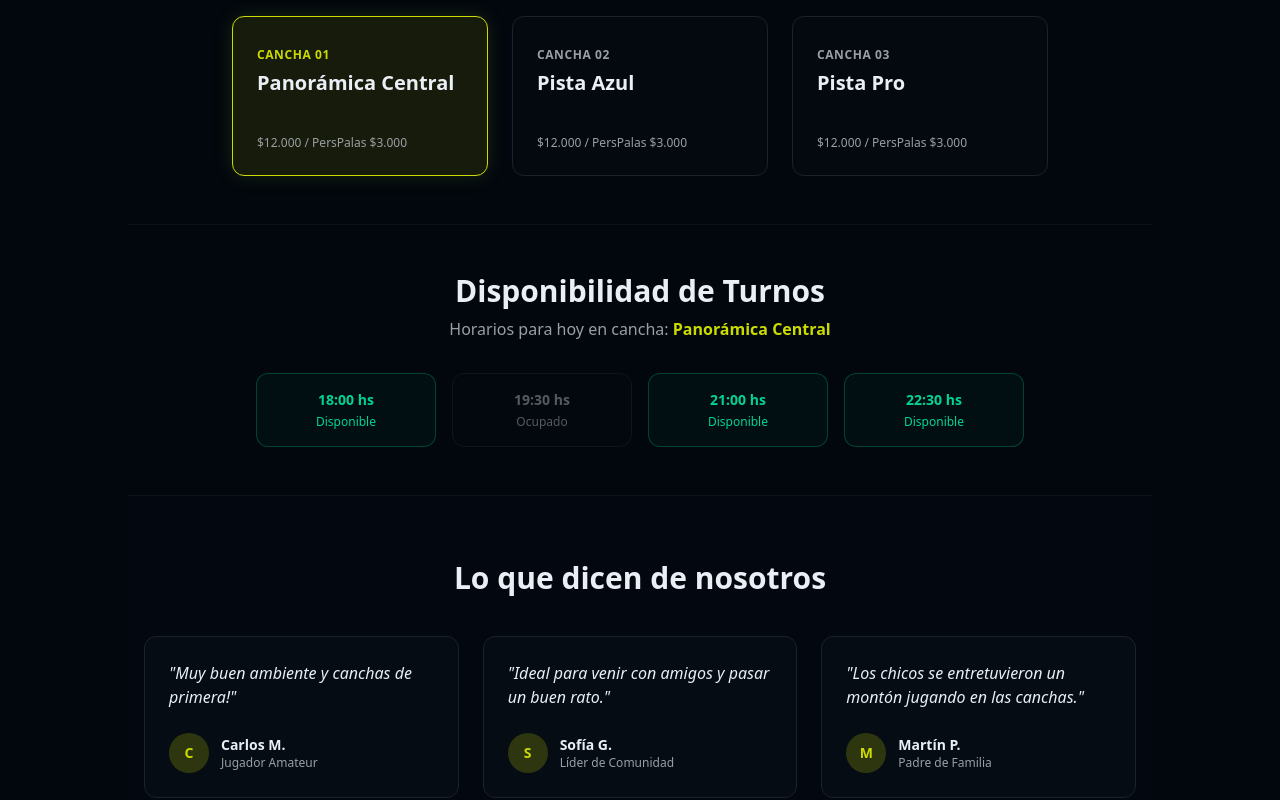
Padel Social Landing Page › debe abrir el modal de reserva al hacer clic en un turno disponible
The image size is (1280, 800).
(page scrolled)
// Buscamos los turnos disponibles (por ejemplo un botón con "18:00 hs")
Click the text "18:00 hs" at (346, 400), box [318,390,374,409]
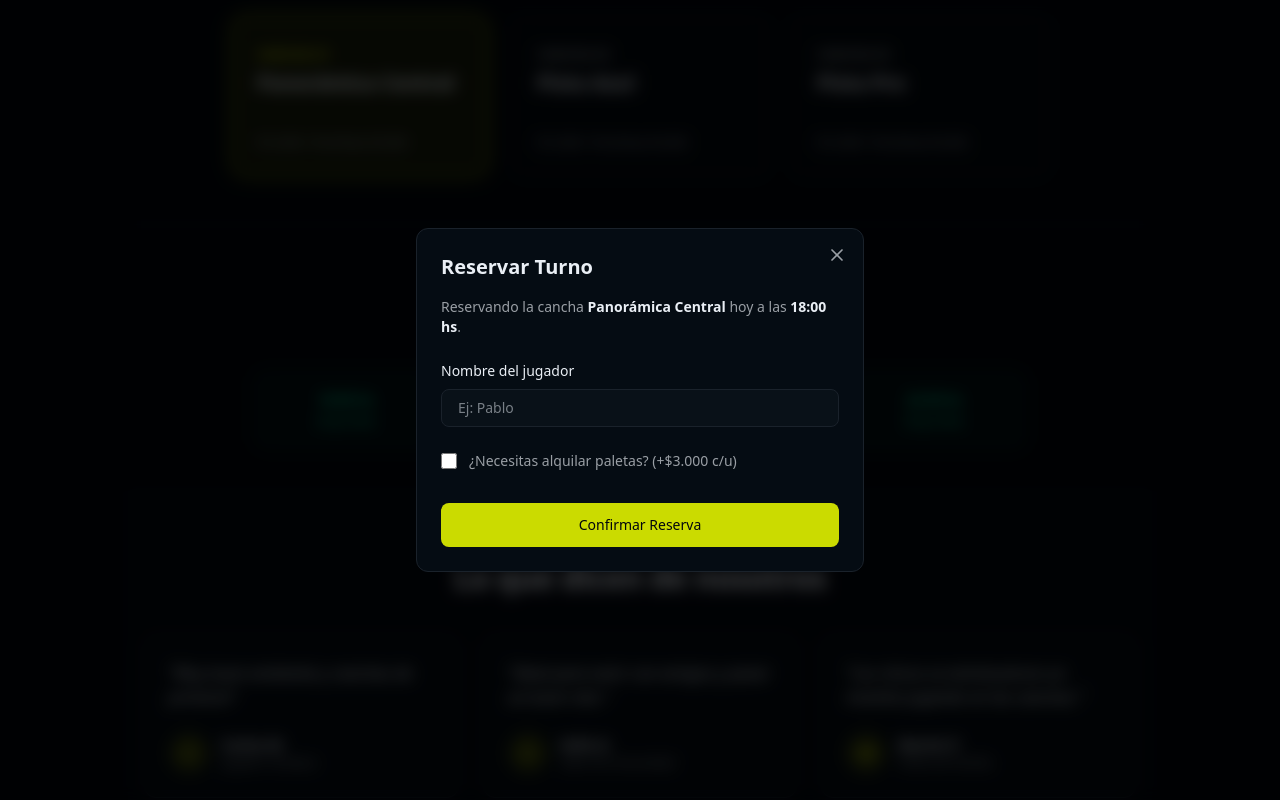
Expected: the text "Nombre del jugador" is shown, [441,361,574,380]
